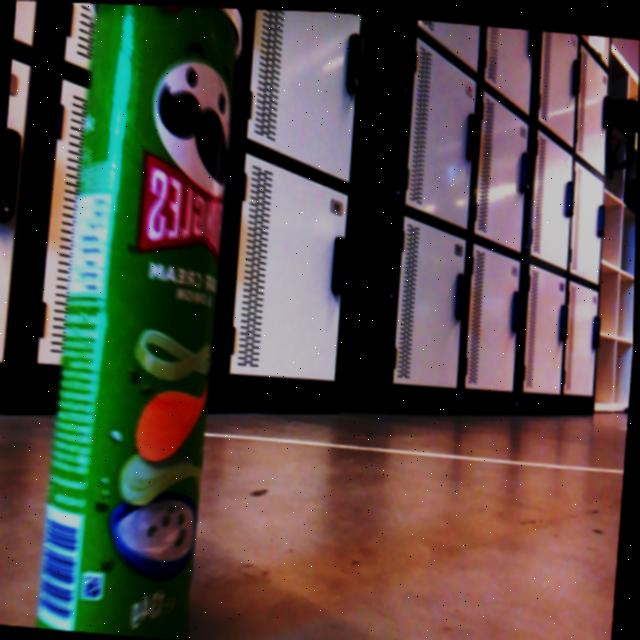greenpringles: (0, 0, 265, 640)
